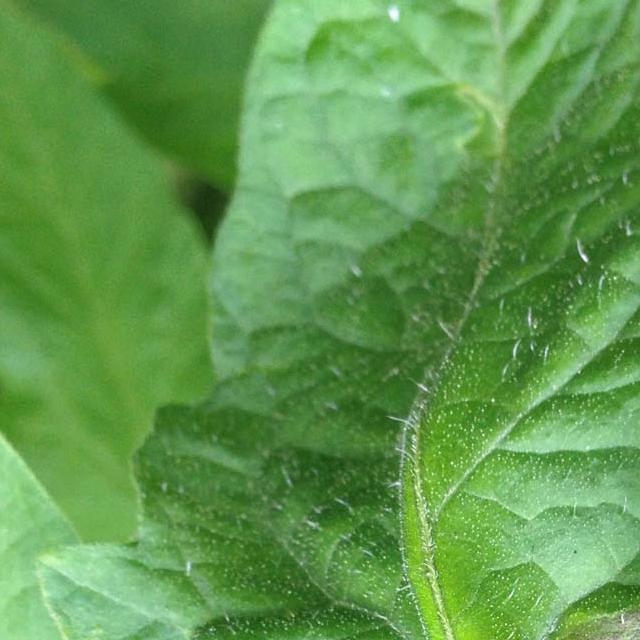Tomato leaf late blight: (66, 0, 640, 640)
